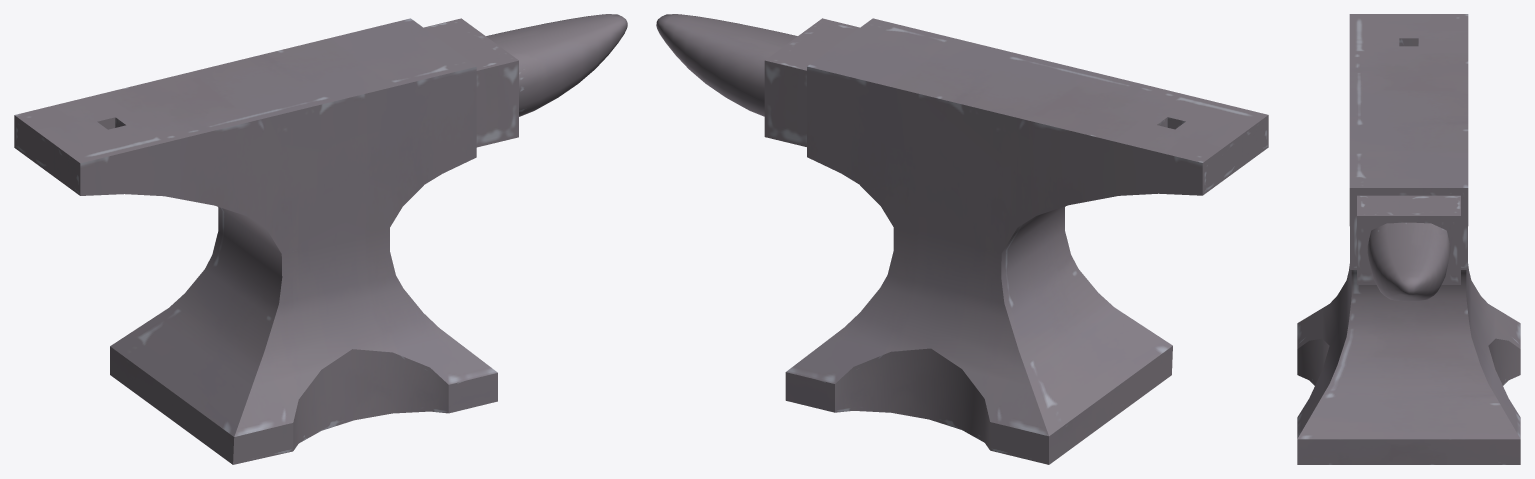
The model's file is anvil.gltf.
3 renders of one model, left to right at view 1: azimuth 30°, elevation 25°; view 2: azimuth 150°, elevation 25°; view 3: azimuth 270°, elevation 25°, orthographic. The views are drawn at different scales.
Visible parts, largest first — view 1: Anvil; view 2: Anvil; view 3: Anvil.
Boxes of the visible parts, bbox=[...] form: Anvil: bbox=[14, 14, 627, 464]; Anvil: bbox=[656, 14, 1268, 464]; Anvil: bbox=[1297, 14, 1520, 464].
Bounding box in the file's own units: 1.08 × 0.556 × 0.4016.
1 material, 1 textured.
